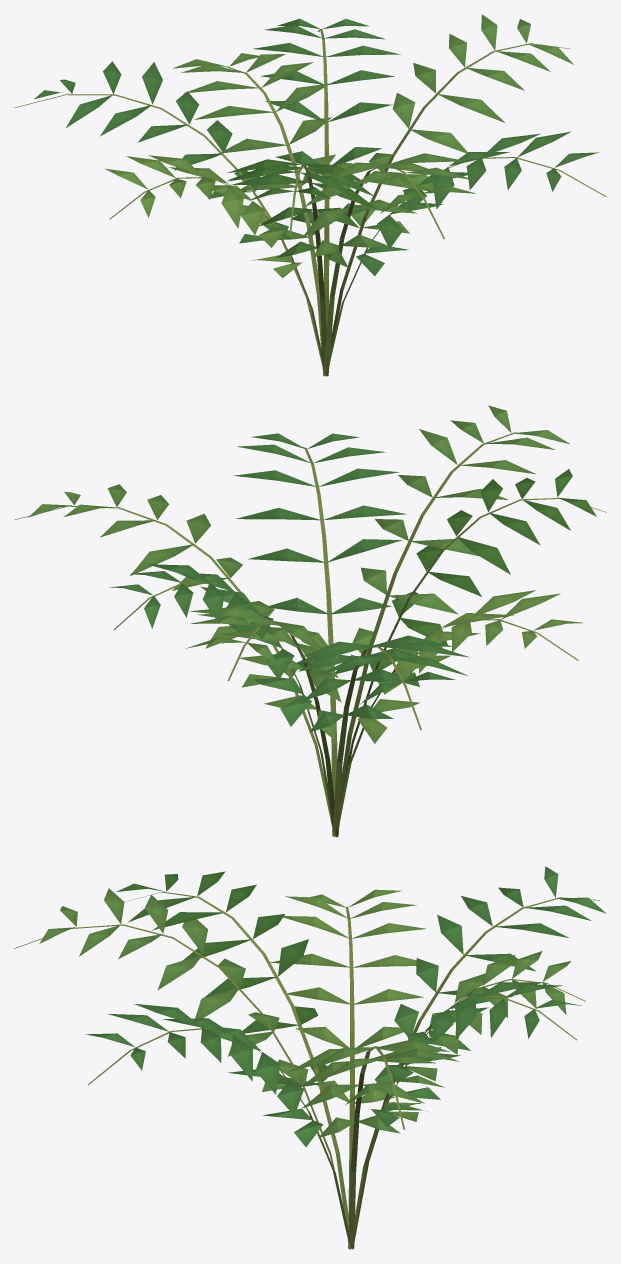
File: w11-lookout-fern.glb
3 views of the same model, one above another, from view 1: azimuth 30°, elevation 25°; view 2: azimuth 150°, elevation 25°; view 3: azimuth 270°, elevation 25° (orthographic). The views are drawn at different scales.
Visible parts, largest first — view 1: Lookout understory | fern; view 2: Lookout understory | fern; view 3: Lookout understory | fern.
Boxes of the visible parts, bbox=[...] form: Lookout understory | fern: bbox=[14, 14, 606, 376]; Lookout understory | fern: bbox=[14, 405, 606, 837]; Lookout understory | fern: bbox=[14, 866, 606, 1249].
Bounding box in the file's own units: 0.9786 × 0.5654 × 0.9591.
